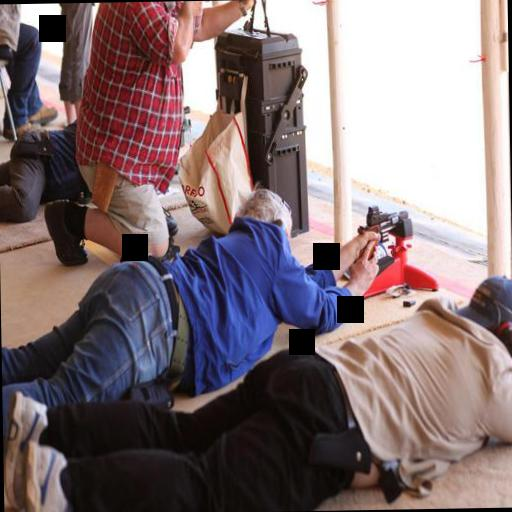Handgun: (351, 200, 413, 242)
